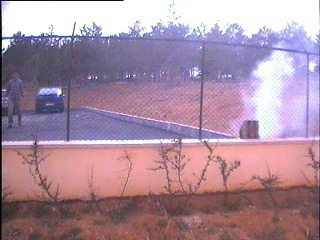smoke: (226, 33, 315, 139)
